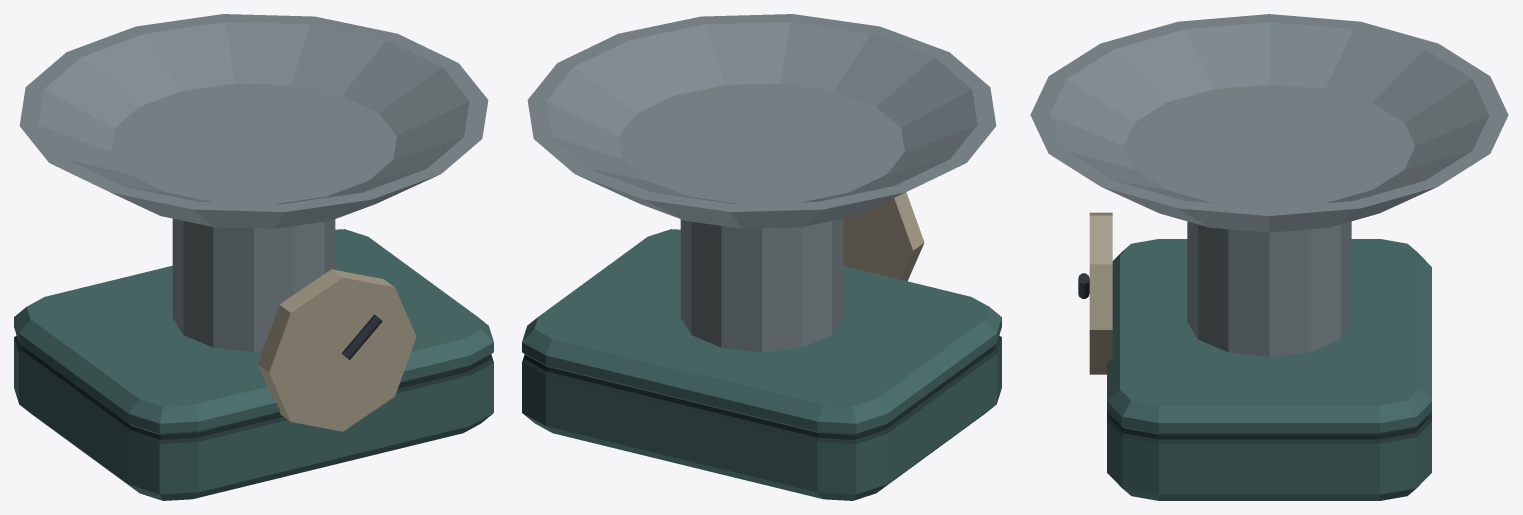
File: L-07_weighing_balance.glb
3 renders of one model, left to right at view 1: azimuth 30°, elevation 25°; view 2: azimuth 150°, elevation 25°; view 3: azimuth 270°, elevation 25°, orthographic.
Parts seen in each view (by area): view 1: L-07_weighing_balance; view 2: L-07_weighing_balance; view 3: L-07_weighing_balance.
Part boxes in pixels (bbox=[...]): L-07_weighing_balance: bbox=[14, 14, 493, 500]; L-07_weighing_balance: bbox=[522, 14, 1001, 500]; L-07_weighing_balance: bbox=[1030, 14, 1508, 500].
Bounding box in the file's own units: 0.25 × 0.1745 × 0.25.
